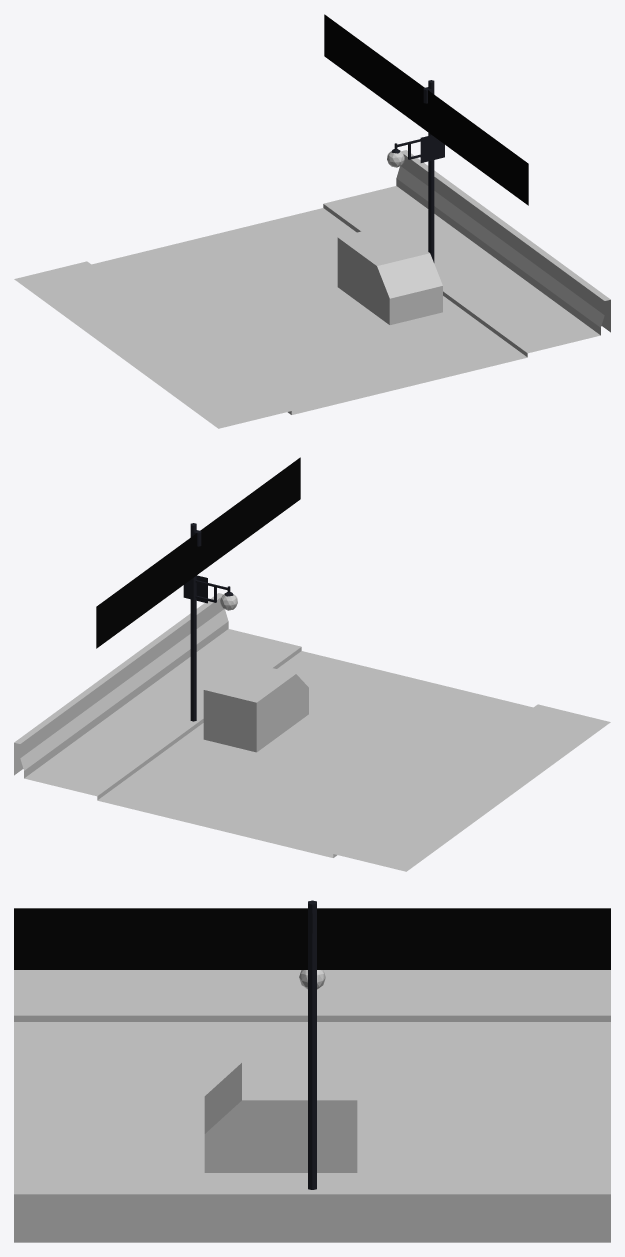
3 renders of one model, top to bottom at view 1: azimuth 30°, elevation 25°; view 2: azimuth 150°, elevation 25°; view 3: azimuth 270°, elevation 25°, orthographic. The views are drawn at different scales.
Visible parts, largest first — view 1: Road, Plane, Car, TelephonePole; view 2: Road, Plane, Car, TelephonePole; view 3: Road, Plane, Car, TelephonePole.
Part boxes in pixels (left/top/right/bottom): Road: left=14, top=150, right=610, bottom=428; Plane: left=324, top=14, right=528, bottom=205; Car: left=337, top=224, right=442, bottom=324; TelephonePole: left=387, top=80, right=444, bottom=262; Road: left=14, top=593, right=610, bottom=871; Plane: left=96, top=457, right=300, bottom=648; Car: left=203, top=661, right=308, bottom=752; TelephonePole: left=183, top=523, right=237, bottom=721; Road: left=14, top=970, right=610, bottom=1242; Plane: left=14, top=908, right=610, bottom=969; Car: left=204, top=1062, right=357, bottom=1172; TelephonePole: left=299, top=900, right=325, bottom=1189.
Size of the model in its own units: 3.32 by 1.63 by 3.
Materials: 3 (1 with a texture image).
